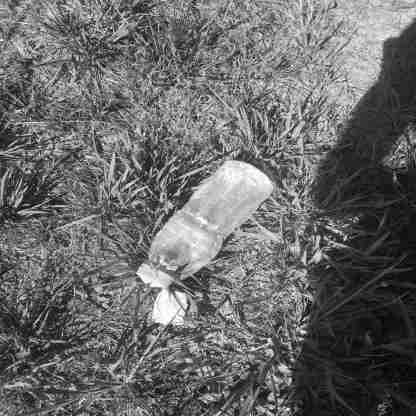plastic: (134, 155, 274, 290)
